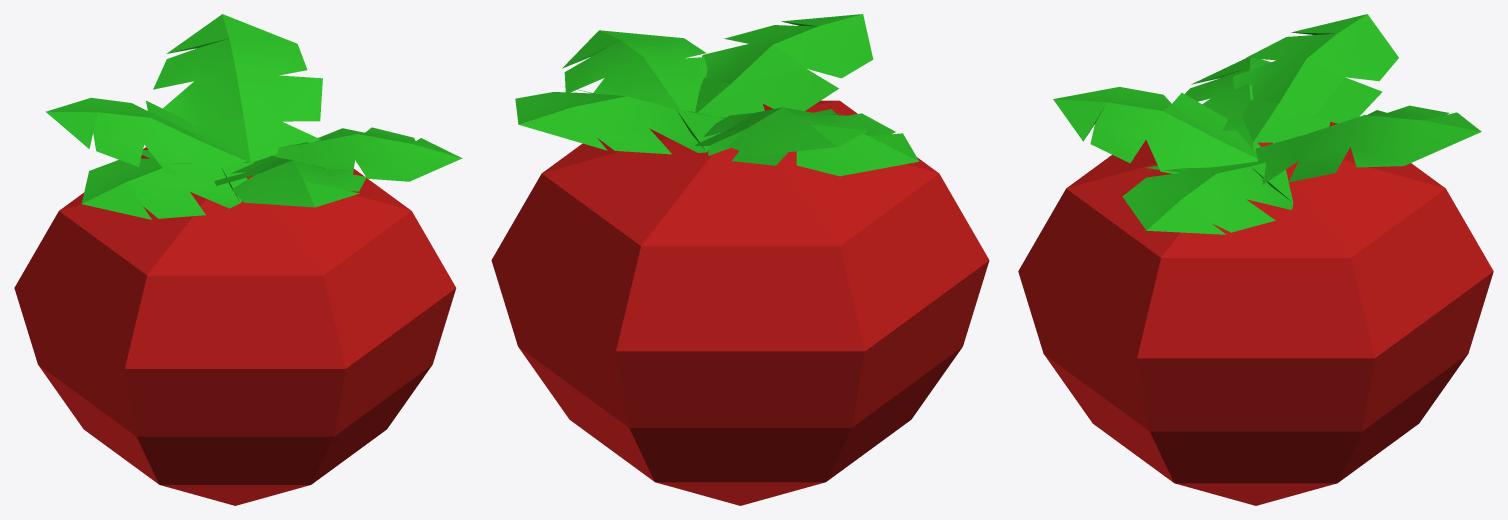
Rendered from Beetroot.fbx.
The picture shows the model from 3 angles, left to right: view 1: azimuth 30°, elevation 25°; view 2: azimuth 150°, elevation 25°; view 3: azimuth 270°, elevation 25°; orthographic projection. The views are drawn at different scales.
Parts seen in each view (by area): view 1: Beetroot, Beetroot.001; view 2: Beetroot, Beetroot.001; view 3: Beetroot.001, Beetroot.
Boxes of the visible parts, <box> form: Beetroot: <box>14,97,345,505</box>; Beetroot.001: <box>153,14,462,484</box>; Beetroot: <box>616,100,989,505</box>; Beetroot.001: <box>491,14,873,481</box>; Beetroot.001: <box>1018,87,1493,505</box>; Beetroot: <box>1067,14,1444,187</box>.
Bounding box in the file's own units: 187 × 205 × 209.
